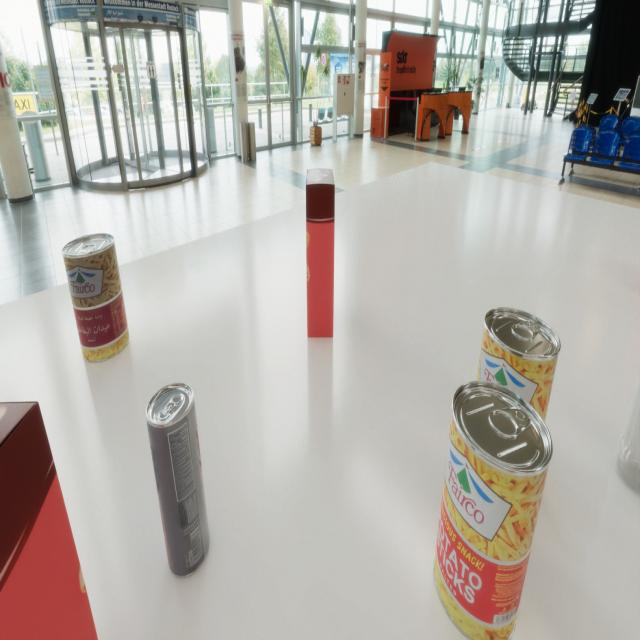HelloPanda: (306, 168, 335, 338)
Potato_sticks: (433, 380, 553, 640), (466, 307, 561, 504), (61, 233, 130, 363)
Rita_zero_sugar: (146, 382, 210, 578)
